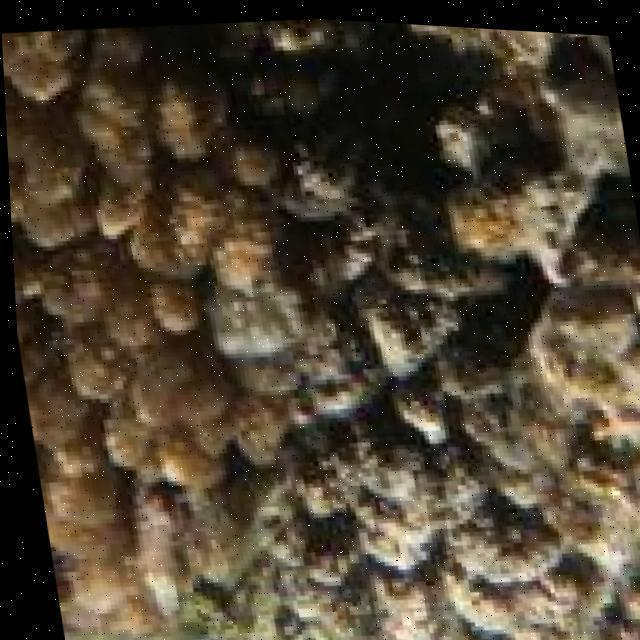Dead Coral: (274, 142, 566, 587)
Healthy Coral: (0, 0, 275, 486)
